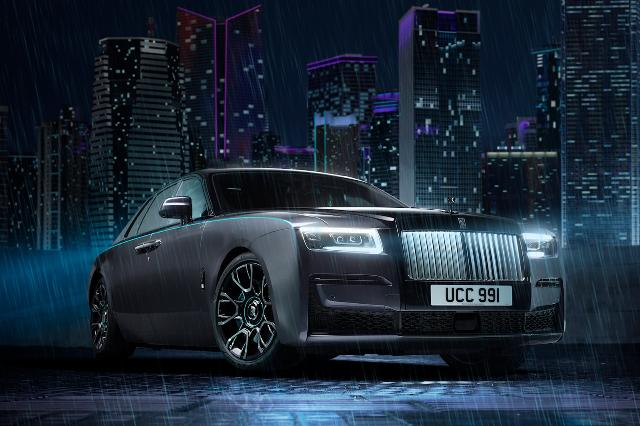rolls-royce: (88, 168, 566, 374)
